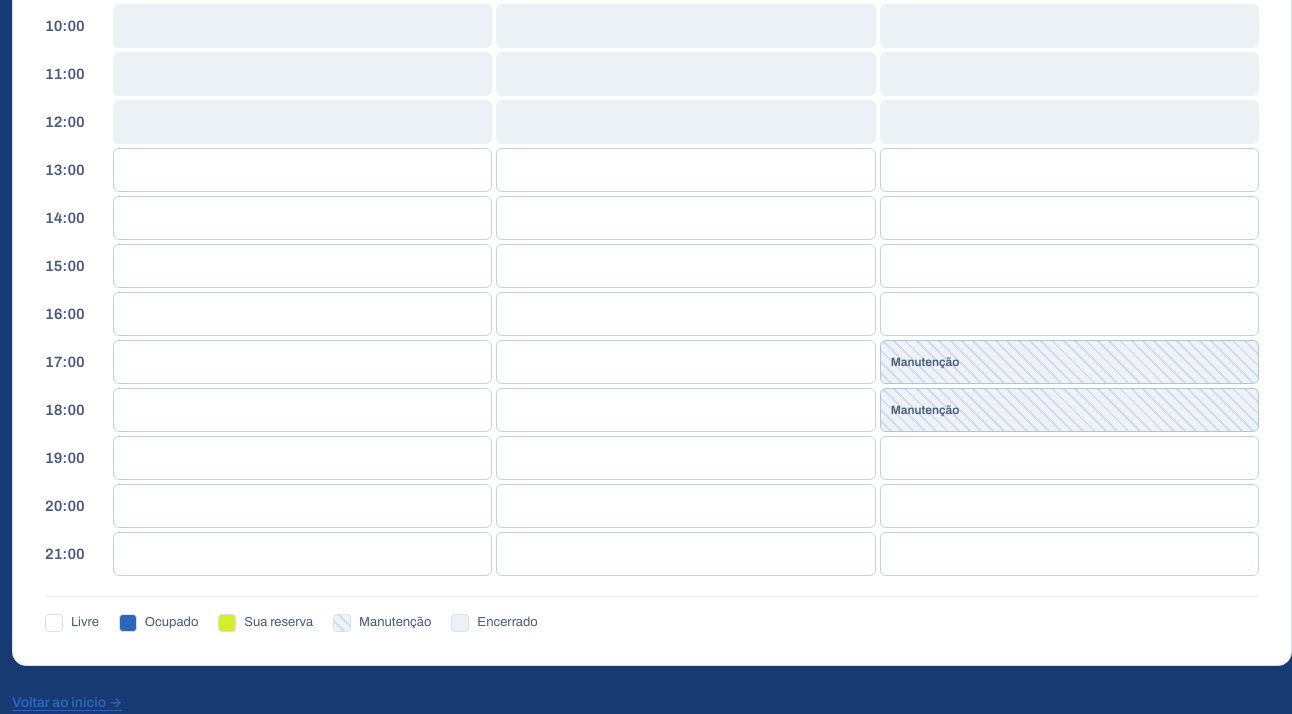
Test: SchedulePage › selecionar horário livre abre o painel lateral; manutenção explica
The image size is (1292, 714).
(page scrolled)
Click the button named "Quadra 2, 18:00, livre" at (686, 410), box [496,388,876,432]
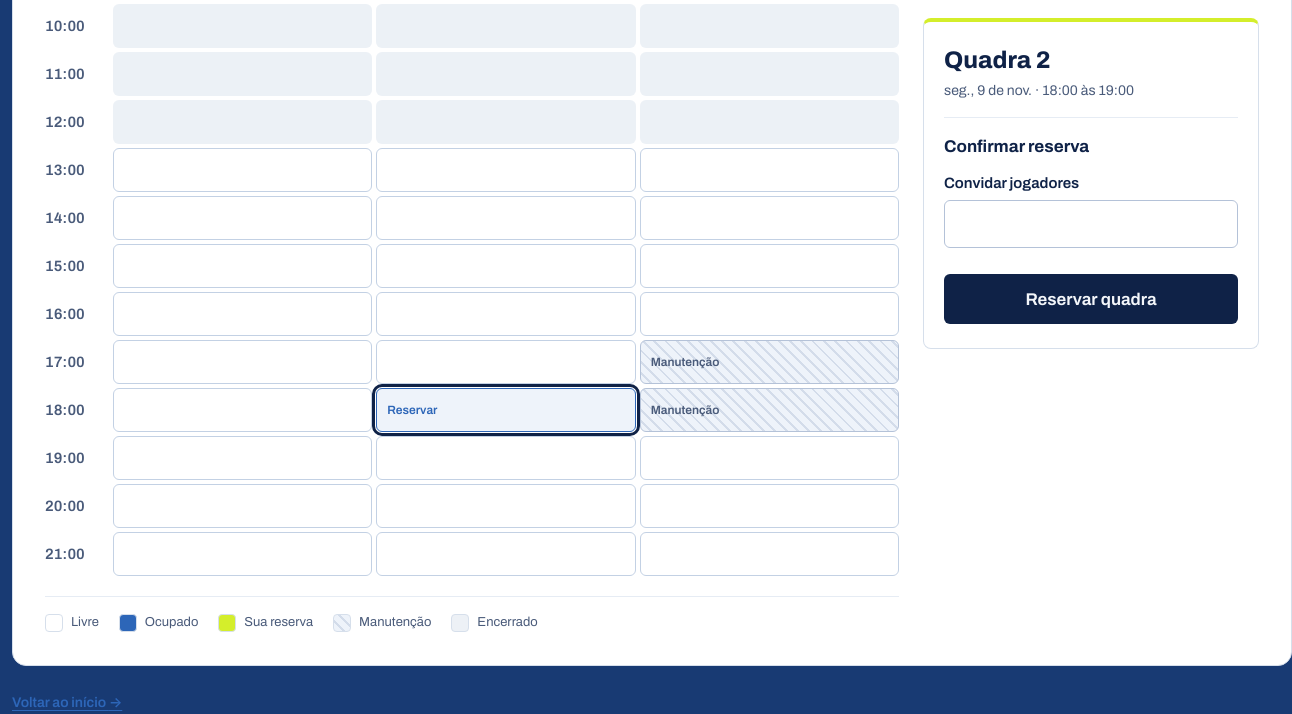
Result: the element named "Horário selecionado" shows "Quadra 2" at [944,47,1051,73]
Result: the element named "Horário selecionado" shows "18:00" at [944,83,1078,98]
Click the button named "Quadra 3, 17:00, em manutenção" at (769, 362), box [640,340,899,384]
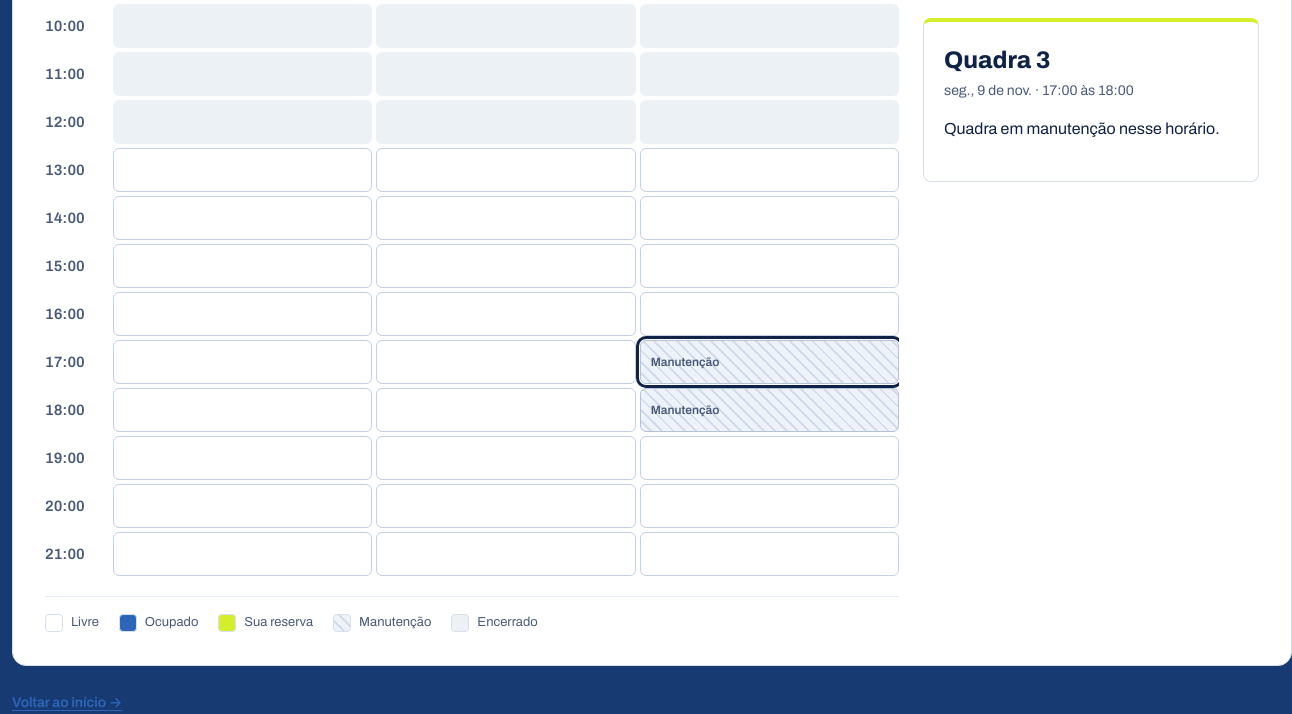
Result: the element named "Horário selecionado" shows "Quadra em manutenção nesse horário." at [944,120,1220,137]
